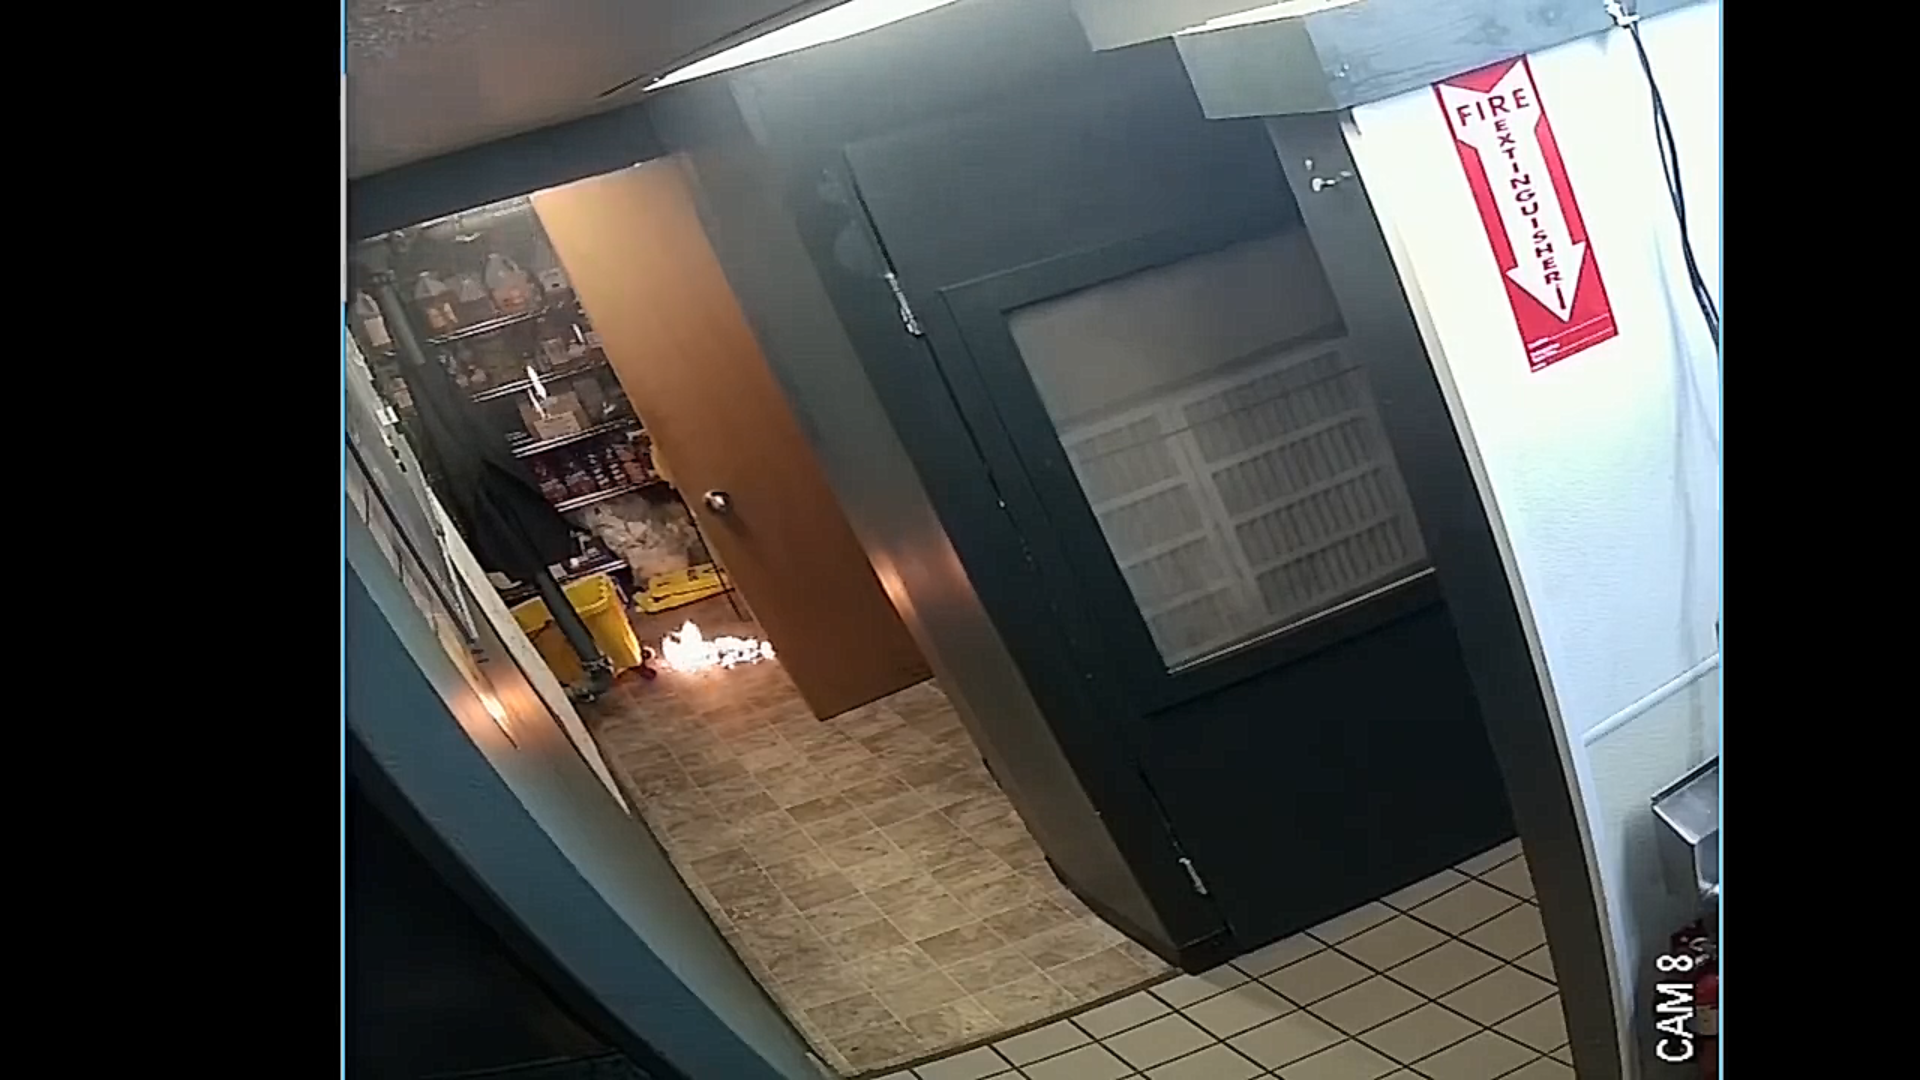fire: (634, 618, 787, 684)
